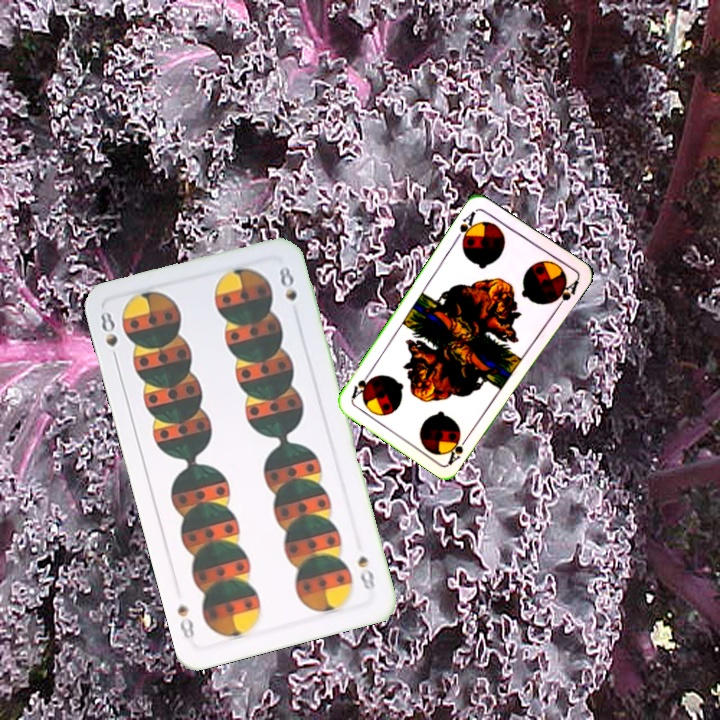S8: (96, 307, 121, 366), (353, 552, 378, 594)
SA: (451, 207, 480, 247), (444, 430, 473, 466)
